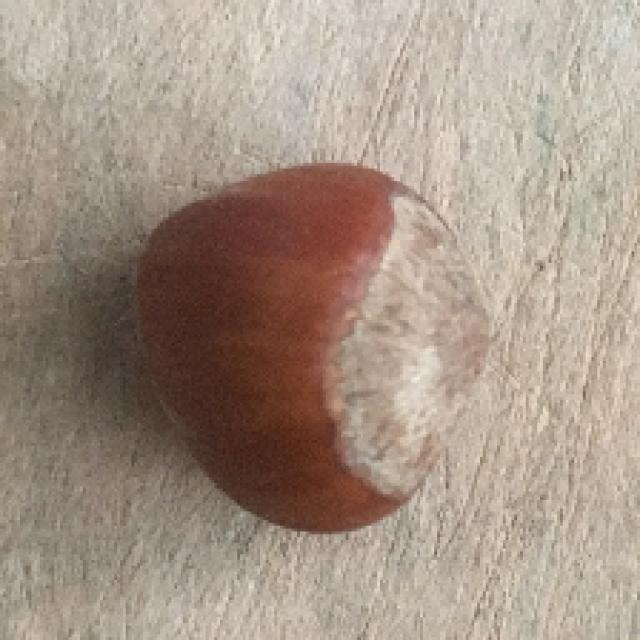qualityHazelnut: (139, 159, 494, 534)
